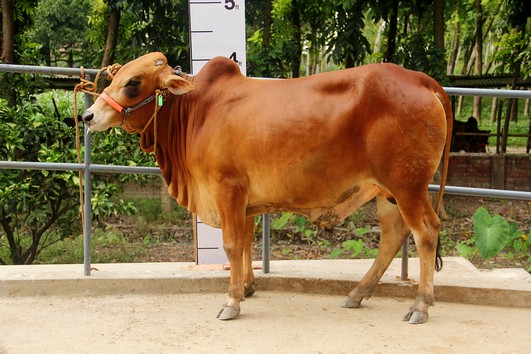cow: (78, 43, 458, 329)
